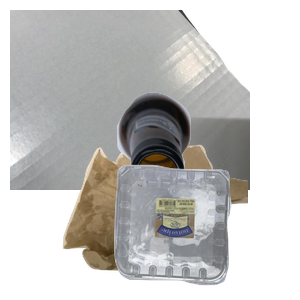cardboard: (10, 10, 250, 190)
glass: (115, 90, 300, 270)
plastic: (112, 162, 300, 300)
trash: (60, 142, 300, 300)
